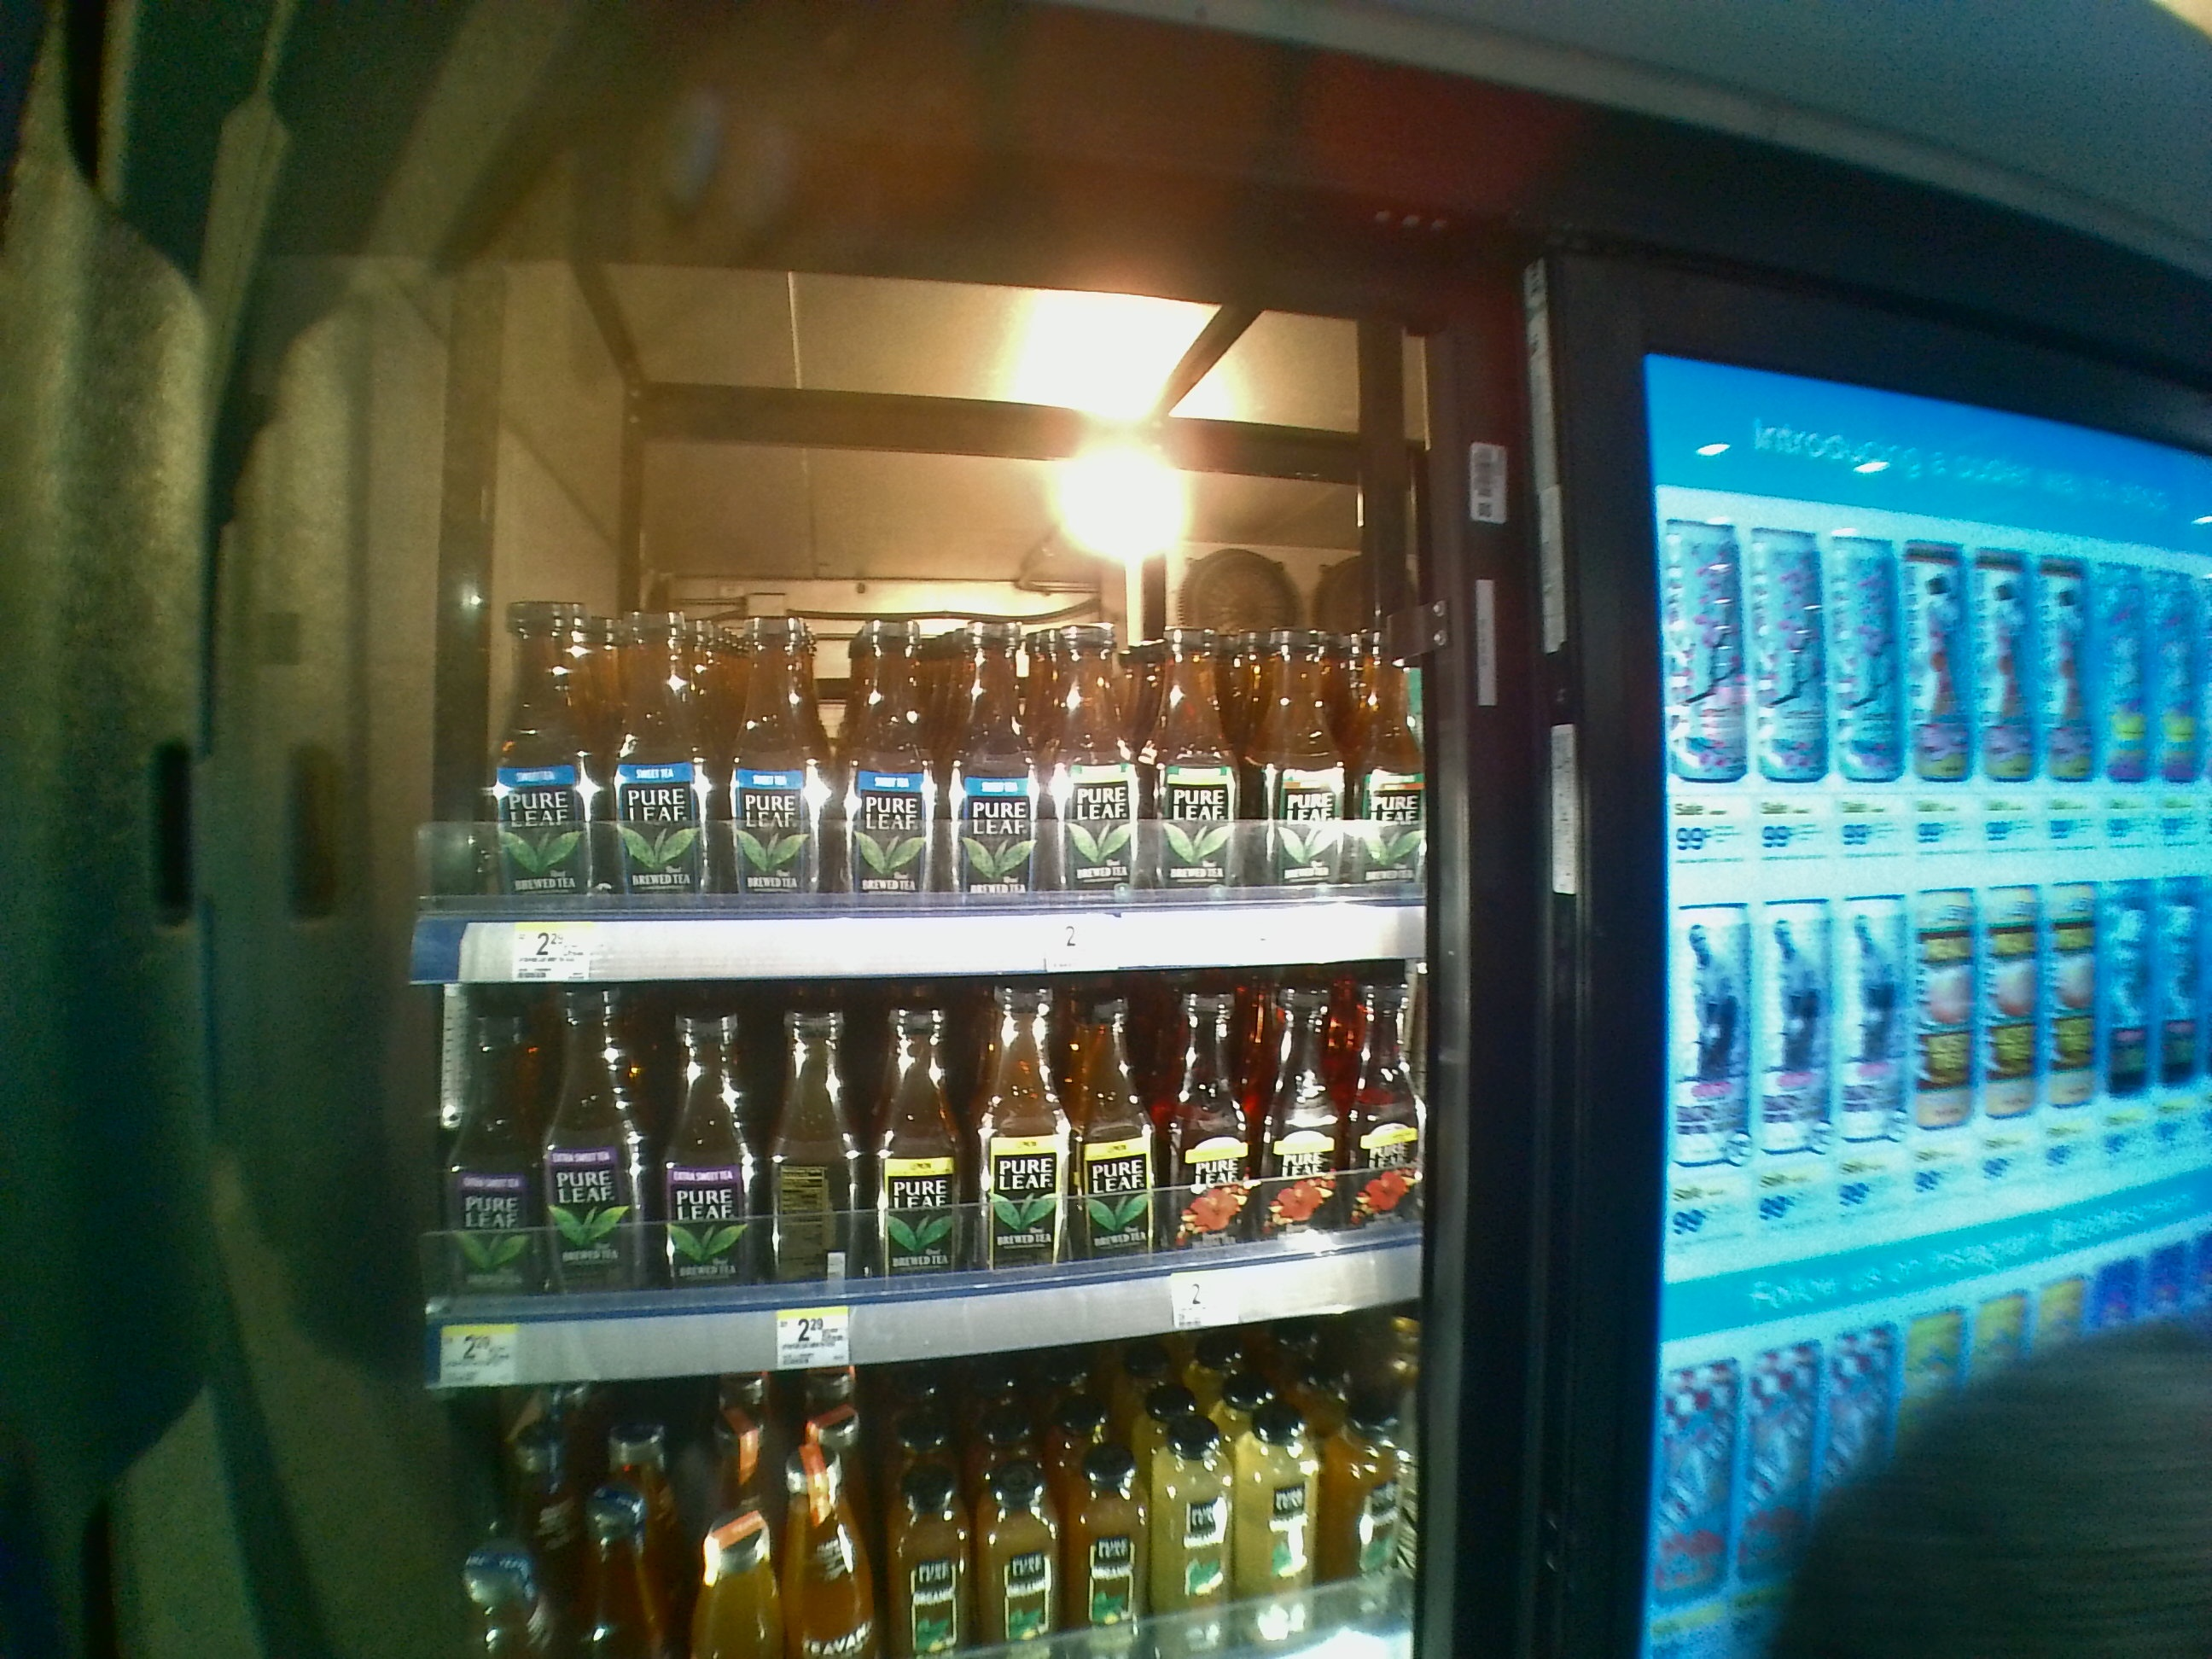shelf: (404, 408, 1425, 974), (415, 988, 1423, 1394)
